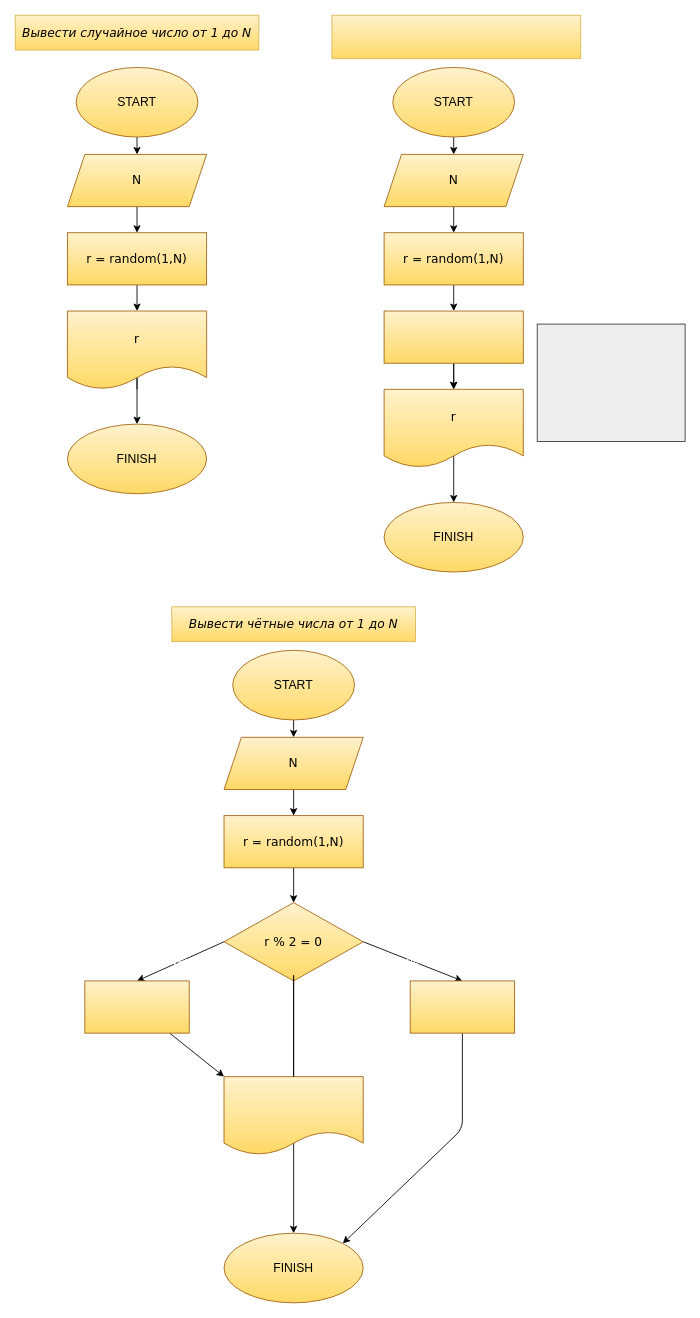
This 700x1318 diagram has some shape labels left out. Each missing label, with the centre of its shape:
even_r: the point at 293,1115
r = even_r: the point at 136,1006
r = odd_r: the point at 462,1006
r = r*r: the point at 453,336
Вывести случайное число от 1 до N, и его квадрат: the point at 456,36
Или без блока "r=r*r". Сразу в блоке вывода отобразить вместо "r" - > "r 2 ": the point at 610,382
